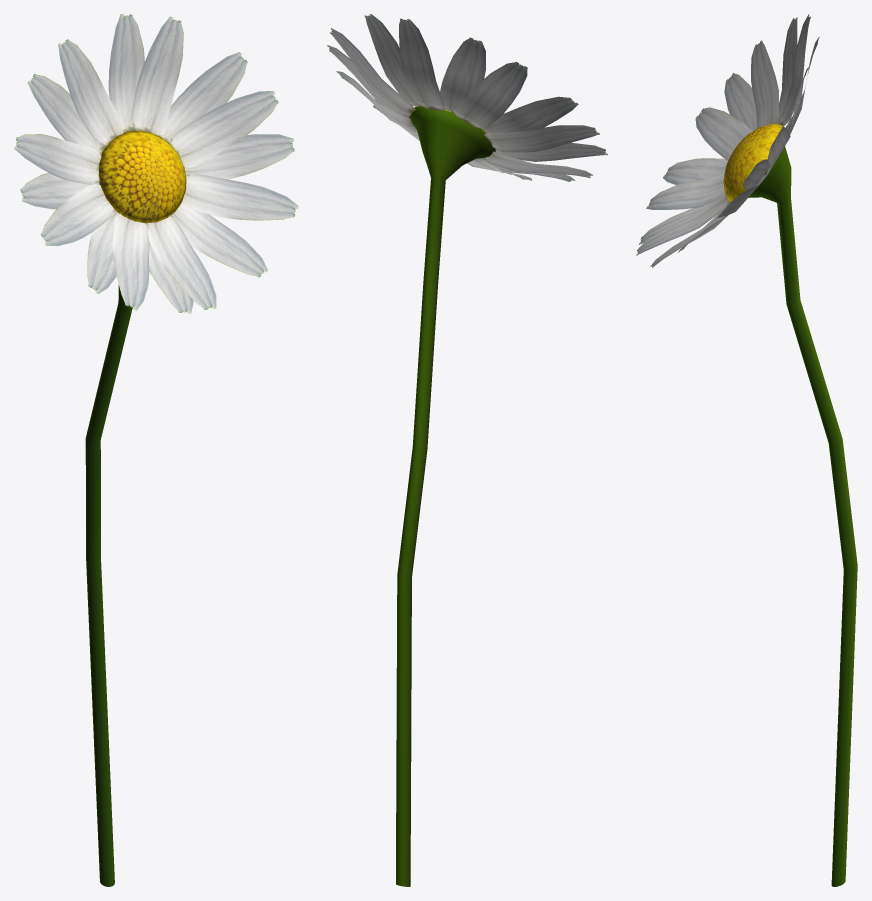
The model's file is Daisy.fbx.
3 views of the same model, side by side, from view 1: azimuth 30°, elevation 25°; view 2: azimuth 150°, elevation 25°; view 3: azimuth 270°, elevation 25° (orthographic). The views are drawn at different scales.
Parts seen in each view (by area): view 1: Daisy; view 2: Daisy; view 3: Daisy.
Boxes of the visible parts, x1,y1,x2,y2 form: Daisy: (14, 14, 298, 886); Daisy: (327, 14, 607, 886); Daisy: (636, 14, 857, 886).
Bounding box in the file's own units: 7.5 × 23.23 × 5.48.
